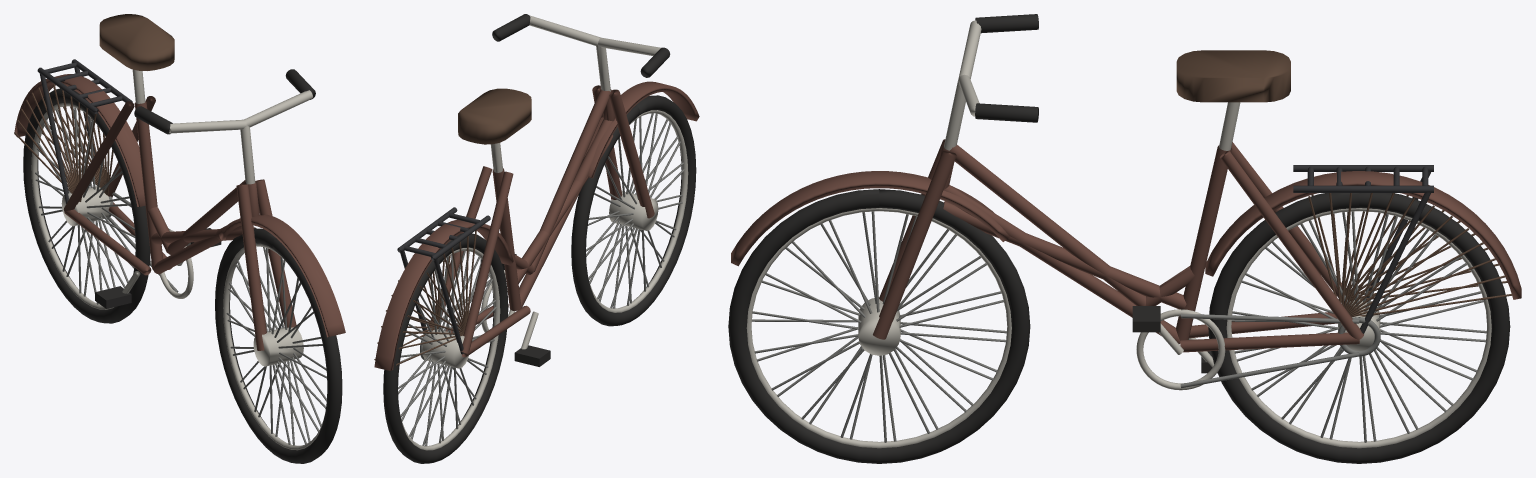
File: tiefdurchstiegsrad.glb
3 renders of one model, left to right at view 1: azimuth 30°, elevation 25°; view 2: azimuth 150°, elevation 25°; view 3: azimuth 270°, elevation 25°, orthographic. The views are drawn at different scales.
Parts seen in each view (by area): view 1: Modell, Vorderrad, Hinterrad; view 2: Modell, Vorderrad, Hinterrad; view 3: Modell, Vorderrad, Hinterrad.
Boxes of the visible parts, x1,y1,x2,y2 form: Modell: (14, 14, 345, 350); Vorderrad: (215, 228, 342, 463); Hinterrad: (23, 88, 150, 323); Modell: (374, 14, 699, 370); Vorderrad: (571, 95, 696, 326); Hinterrad: (383, 233, 508, 463); Modell: (731, 14, 1521, 390); Vorderrad: (728, 189, 1030, 463); Hinterrad: (1208, 193, 1510, 463).
Size of the model in its own units: 0.5356 by 1.01 by 1.8.
